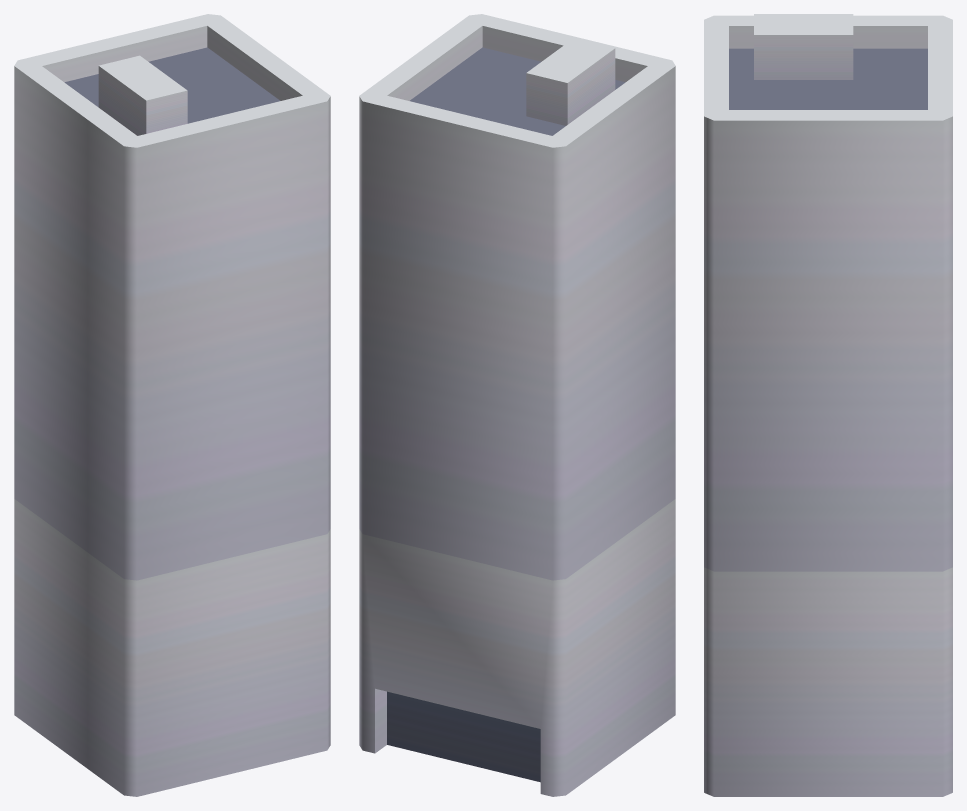
Rendered from low-detail-building-k.glb.
The picture shows the model from 3 angles, left to right: view 1: azimuth 30°, elevation 25°; view 2: azimuth 150°, elevation 25°; view 3: azimuth 270°, elevation 25°; orthographic projection. The views are drawn at different scales.
Parts seen in each view (by area): view 1: low-detail-building-k; view 2: low-detail-building-k; view 3: low-detail-building-k.
Boxes of the visible parts, left/top/right/bottom form: low-detail-building-k: left=14, top=14, right=330, bottom=796; low-detail-building-k: left=359, top=14, right=675, bottom=796; low-detail-building-k: left=704, top=14, right=952, bottom=796.
Bounding box in the file's own units: 0.5 × 1.55 × 0.5.
Materials: 1 (1 with a texture image).
